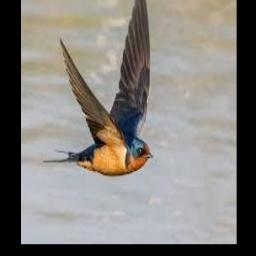Swallow: (43, 0, 154, 175)
